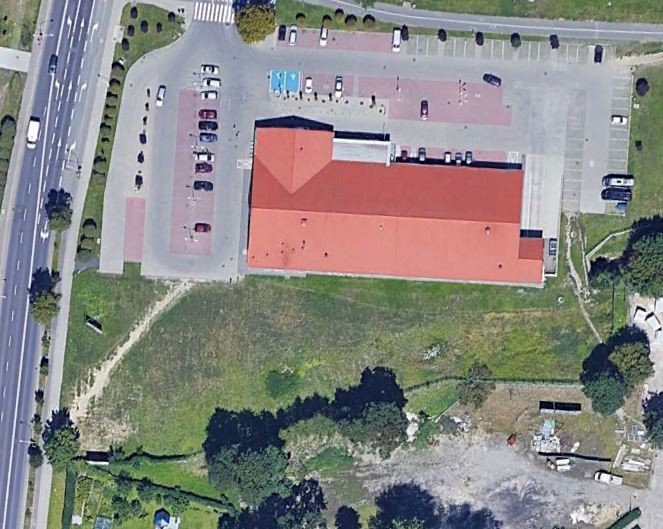shopping_center: (240, 116, 551, 293)
